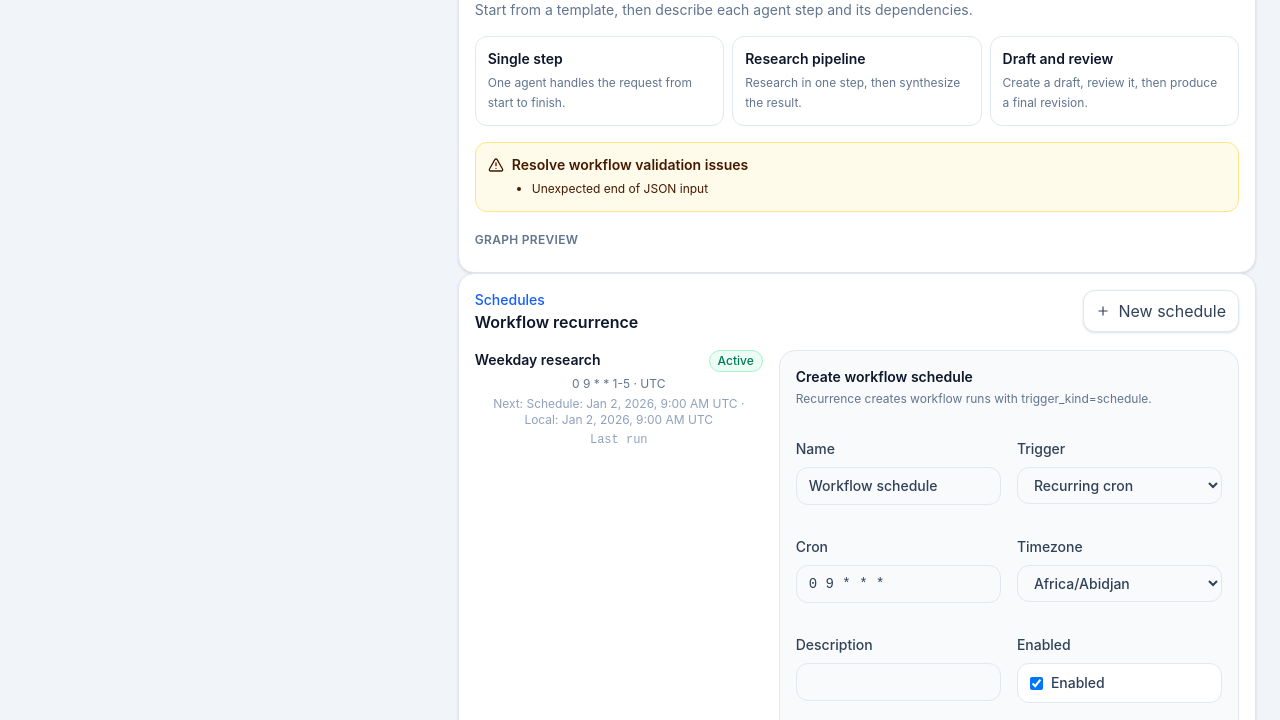
Test: WorkflowsPage workflow schedules › warns that deleting a dirty workflow schedule discards its edits
(page scrolled)
Expected: the heading "Workflow recurrence" is shown, [475, 310, 638, 334]
Click the text "Weekday research": {"x": 538, "y": 360} [475, 350, 601, 370]
(page scrolled)
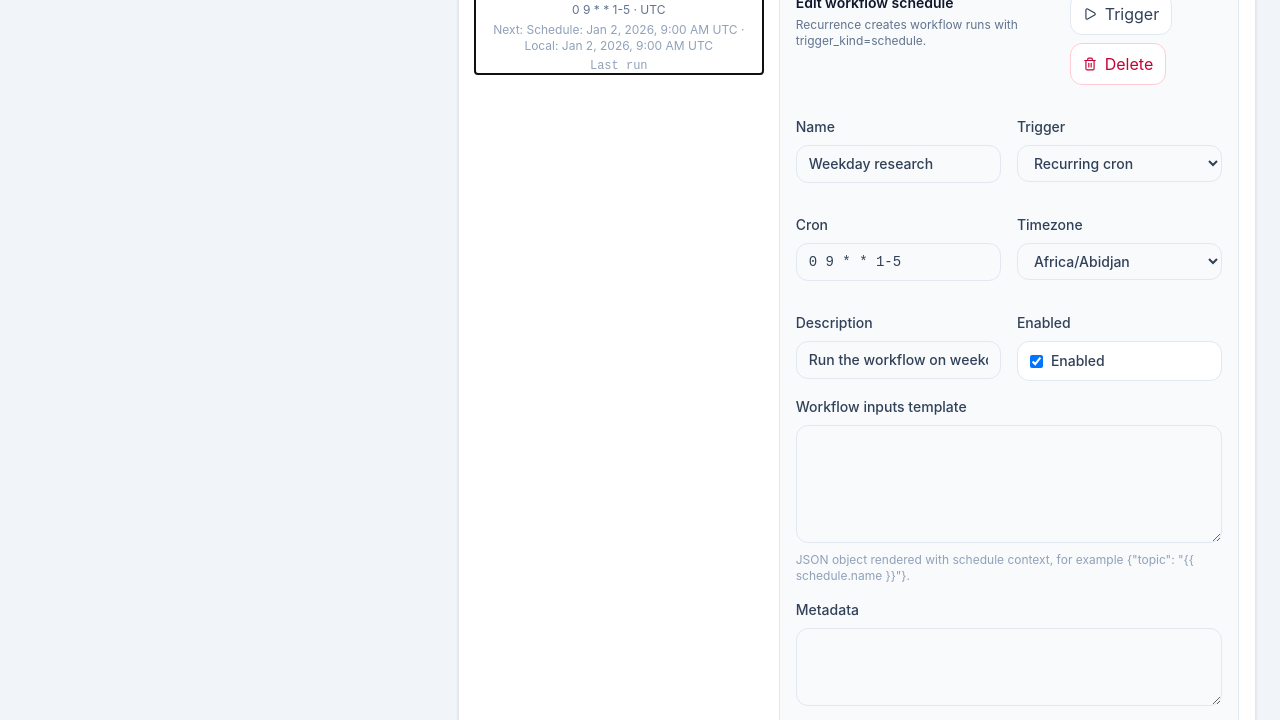
Expected: the text "Edit workflow schedule" is shown, [796, 0, 954, 11]
In the field labelled "Description": {"x": 898, "y": 360} [796, 341, 1001, 379], type "Unsaved detail"
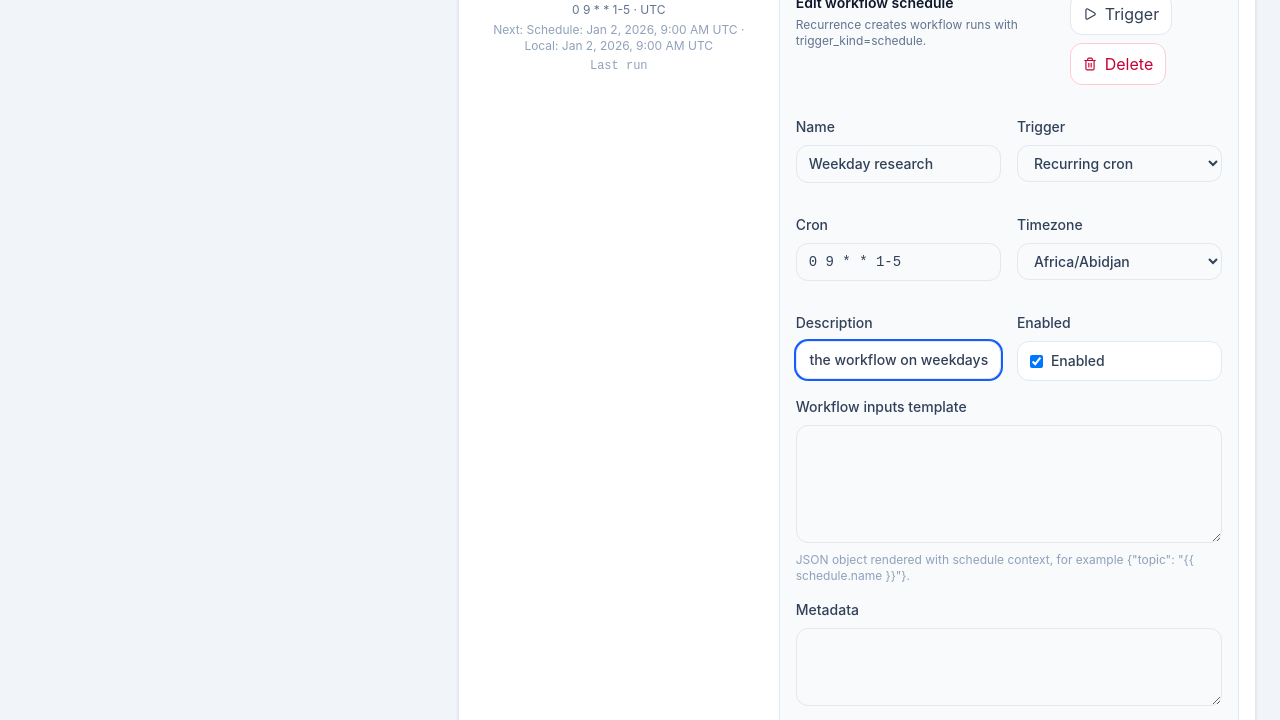
Click the button "Delete": {"x": 1118, "y": 64} [1070, 43, 1166, 85]
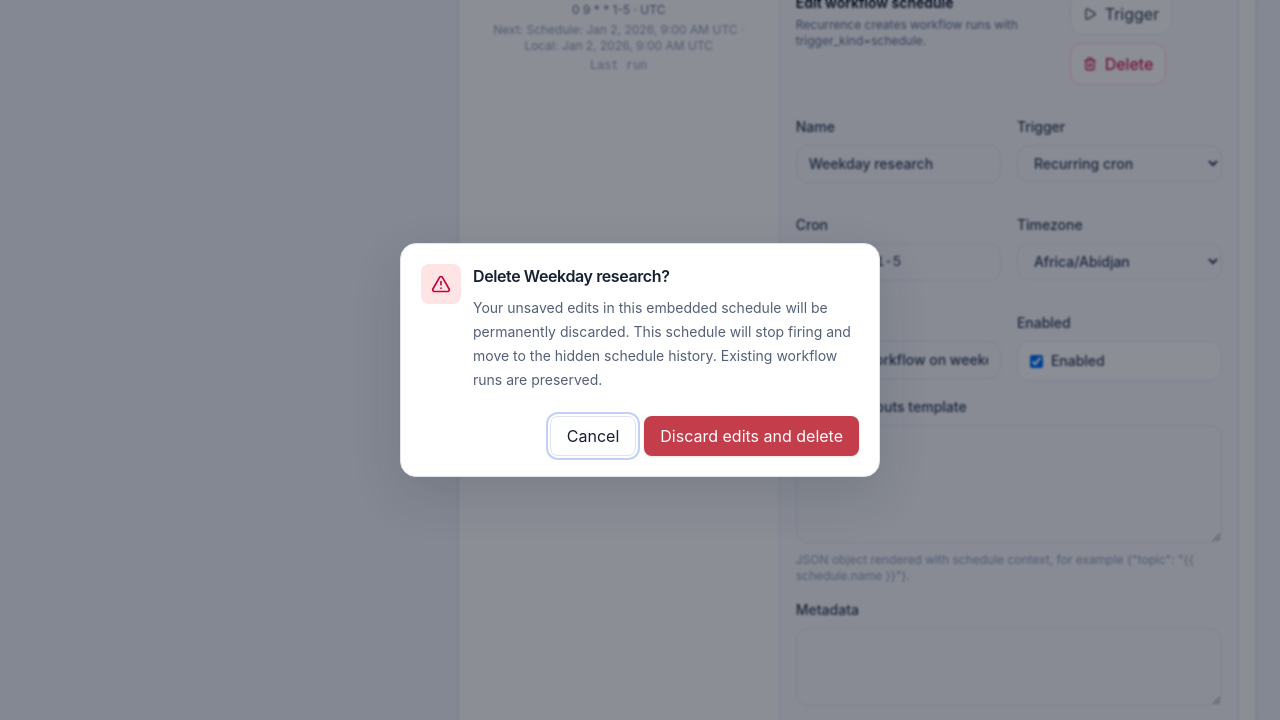
Expected: the dialog shows "unsaved edits in this embedded schedule will be permanently discarded", [473, 299, 851, 388]
Expected: the button "Discard edits and delete" is shown, [644, 416, 859, 456]
